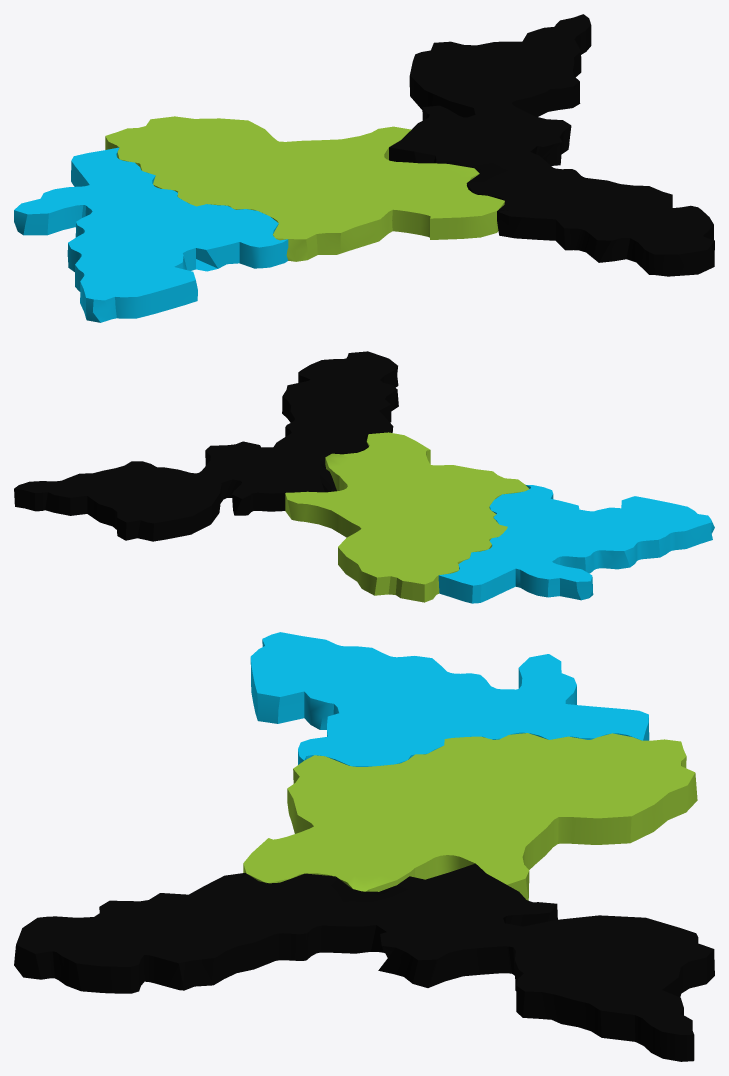
File: Island03.fbx
3 renders of one model, top to bottom at view 1: azimuth 30°, elevation 25°; view 2: azimuth 150°, elevation 25°; view 3: azimuth 270°, elevation 25°, orthographic. The views are drawn at different scales.
Visible parts, largest first — view 1: Retopo_Curve.003, Retopo_Curve, Retopo_Curve.001; view 2: Retopo_Curve.003, Retopo_Curve, Retopo_Curve.001; view 3: Retopo_Curve.003, Retopo_Curve, Retopo_Curve.001.
Part boxes in pixels (x1,y1,x2,y2): Retopo_Curve.003: [389, 14, 714, 276]; Retopo_Curve: [105, 116, 504, 261]; Retopo_Curve.001: [14, 147, 288, 322]; Retopo_Curve.003: [14, 351, 398, 541]; Retopo_Curve: [285, 432, 529, 602]; Retopo_Curve.001: [438, 484, 714, 603]; Retopo_Curve.003: [14, 863, 714, 1061]; Retopo_Curve: [243, 733, 697, 900]; Retopo_Curve.001: [250, 632, 649, 766].
Bounding box in the file's own units: 32.31 × 1 × 23.73.
